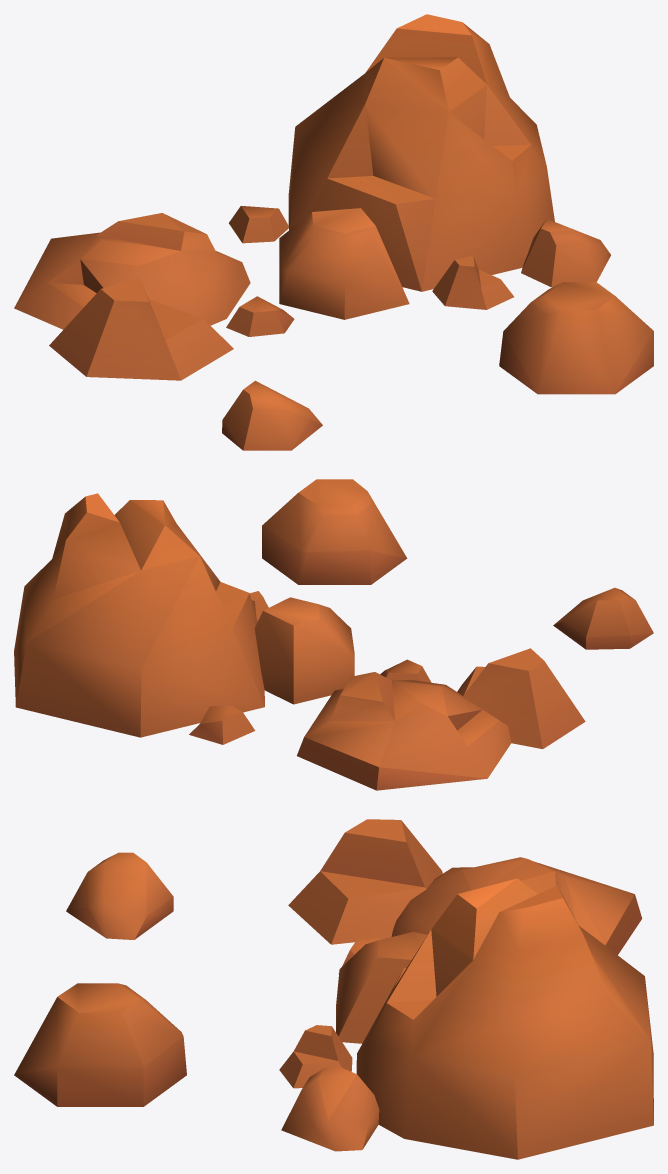
The model's file is desertrocks.glb.
3 views of the same model, one above another, from view 1: azimuth 30°, elevation 25°; view 2: azimuth 150°, elevation 25°; view 3: azimuth 270°, elevation 25° (orthographic). The views are drawn at different scales.
Visible parts, largest first — view 1: rocks_B, rocks_A, rock_B, rock_A; view 2: rocks_B, rocks_A, rock_B, rock_A; view 3: rocks_B, rocks_A, rock_B, rock_A.
Part boxes in pixels (box(x1,y1,x2,y2)): rocks_B: box(229, 14, 610, 319); rocks_A: box(14, 213, 294, 380); rock_B: box(499, 281, 653, 394); rock_A: box(222, 380, 322, 450); rocks_B: box(14, 493, 354, 744); rocks_A: box(297, 648, 585, 790); rock_B: box(262, 479, 407, 584); rock_A: box(553, 587, 653, 649); rocks_B: box(279, 878, 653, 1159); rocks_A: box(288, 819, 642, 973); rock_B: box(14, 983, 186, 1106); rock_A: box(66, 852, 173, 939).
Size of the model in its own units: 3.2 by 1.07 by 2.97.
1 material, 1 textured.
